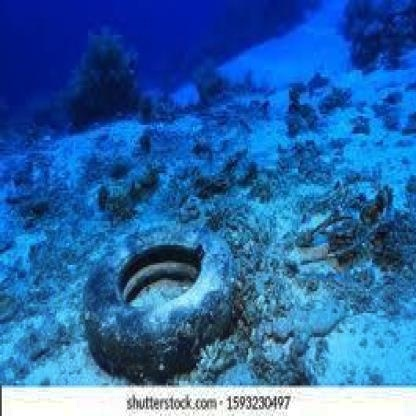tire: (73, 219, 247, 374)
